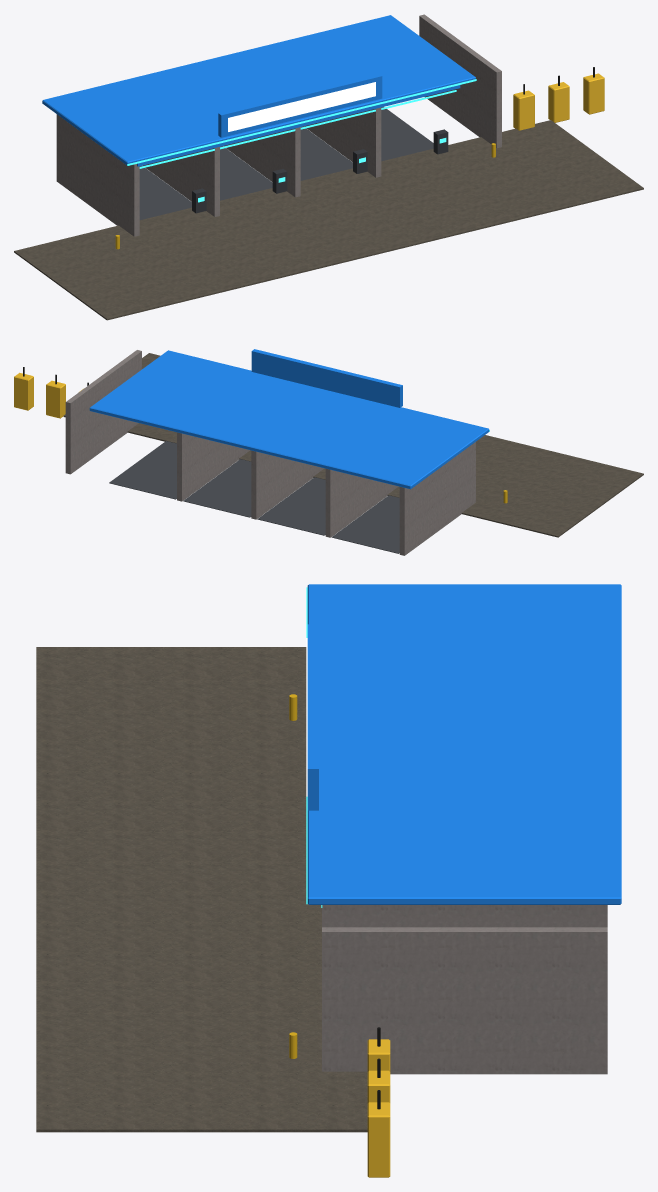
Rendered from OT_CarWash_A.glb.
The picture shows the model from 3 angles, top to bottom: view 1: azimuth 30°, elevation 25°; view 2: azimuth 150°, elevation 25°; view 3: azimuth 270°, elevation 25°; orthographic projection. The views are drawn at different scales.
Parts seen in each view (by area): view 1: OT_CarWash_A_Pavement, OT_CarWash_A_WashBlue__1f8fff, OT_CarWash_A_Block, OT_CarWash_A_WetFloor__4a4e54, OT_CarWash_A_Vacuum__f6c22c, OT_CarWash_A_SignWhiteGlow__f4f8ff, OT_CarWash_A_NeonCyan__2fe0ff, OT_CarWash_A_Coin__3a3d42; view 2: OT_CarWash_A_WashBlue__1f8fff, OT_CarWash_A_Block, OT_CarWash_A_Pavement, OT_CarWash_A_WetFloor__4a4e54, OT_CarWash_A_Vacuum__f6c22c; view 3: OT_CarWash_A_Pavement, OT_CarWash_A_WashBlue__1f8fff, OT_CarWash_A_Block, OT_CarWash_A_Vacuum__f6c22c.
Part boxes in pixels (box(x1,y1,x2,y2)): OT_CarWash_A_Pavement: box(14, 120, 643, 320); OT_CarWash_A_WashBlue__1f8fff: box(42, 15, 475, 166); OT_CarWash_A_Block: box(56, 14, 501, 236); OT_CarWash_A_WetFloor__4a4e54: box(139, 107, 433, 220); OT_CarWash_A_Vacuum__f6c22c: box(513, 73, 604, 130); OT_CarWash_A_SignWhiteGlow__f4f8ff: box(228, 82, 375, 131); OT_CarWash_A_NeonCyan__2fe0ff: box(127, 79, 476, 168); OT_CarWash_A_Coin__3a3d42: box(192, 129, 448, 213); OT_CarWash_A_WashBlue__1f8fff: box(89, 349, 489, 489); OT_CarWash_A_Block: box(65, 350, 475, 555); OT_CarWash_A_Pavement: box(63, 353, 643, 537); OT_CarWash_A_WetFloor__4a4e54: box(109, 441, 399, 553); OT_CarWash_A_Vacuum__f6c22c: box(14, 372, 82, 418); OT_CarWash_A_Pavement: box(36, 647, 367, 1132); OT_CarWash_A_WashBlue__1f8fff: box(307, 584, 621, 904); OT_CarWash_A_Block: box(322, 905, 607, 1074); OT_CarWash_A_Vacuum__f6c22c: box(367, 1039, 390, 1177).
Bounding box in the file's own units: 43.8 × 7.5 × 20.5.
12 materials, 2 textured.
